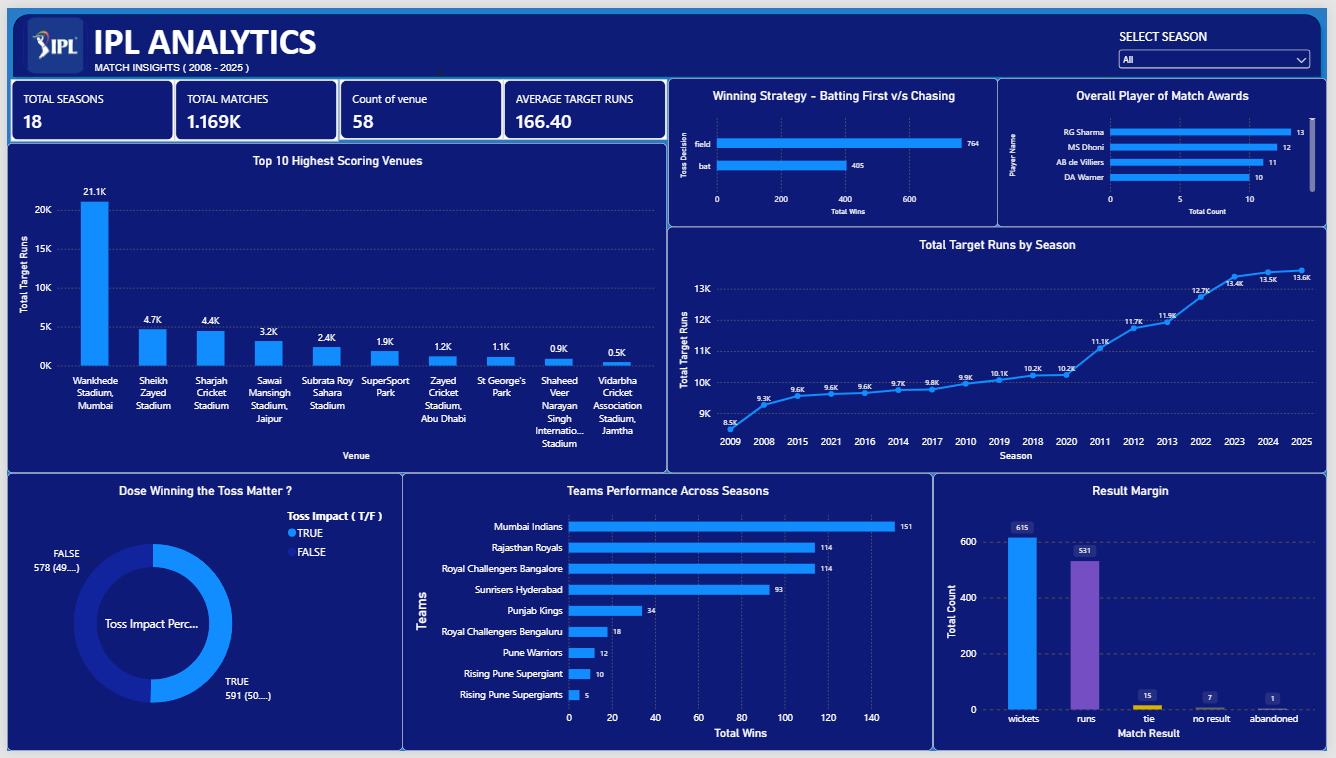

This screenshot's page, from the dashboard's own definition file:
{"tool":"powerbi","page":{"name":"Dashboard","canvas":[1920,1080],"ordinal":0},"visuals":[{"type":"lineChart","title":"Total Target Runs by Season","fields":{"Category":["ipl.Match_Year"],"Y":["Sum(ipl.target_runs)"]},"box":[960,318,960,358],"z":0},{"type":"shape","box":[0,0,1920,109],"z":1000},{"type":"slicer","title":"   SELECT SEASON","fields":{"Values":["ipl.Match_Year"]},"box":[1596.1,45.2,304,52.5],"z":2000},{"type":"textbox","title":"IPL ANALYTICS","box":[125.7,14.3,1008,95],"z":3000},{"type":"clusteredColumnChart","title":"Top 10 Highest Scoring Venues","fields":{"Category":["ipl.venue"],"Y":["Sum(ipl.target_runs)"]},"box":[0,196,960,480],"z":4000},{"type":"donutChart","title":"Dose Winning the Toss Matter ?","fields":{"Category":["ipl.Toss_Impact"],"Y":["CountNonNull(ipl.match_number)"]},"box":[0,676,576,404],"z":5000},{"type":"barChart","title":"Teams Performance Across Seasons","fields":{"Category":["ipl.winner"],"Y":["CountNonNull(ipl.match_number)"]},"box":[574,676,772,404],"z":6000},{"type":"clusteredColumnChart","title":"Result Margin","fields":{"Category":["ipl.result"],"Y":["CountNonNull(ipl.result)"]},"box":[1348,676,572,404],"z":7000},{"type":"image","box":[23.5,12.9,93.5,82.9],"z":8000},{"type":"textbox","box":[100,100,300,300],"z":9000},{"type":"textbox","title":"MATCH INSIGHTS ( 2008 - 2025 )","box":[128,77.8,331.4,30],"z":10000},{"type":"textbox","box":[100,100,300,300],"z":10001},{"type":"textbox","title":"SELECT SEASON","box":[1617.8,29,266,25.3],"z":10002},{"type":"cardVisual","fields":{"Data":["Avg(ipl.target_runs)"]},"box":[722,104,238,88],"z":10006},{"type":"cardVisual","fields":{"Data":["CountNonNull(ipl.match_number)"]},"box":[244,104,238,90],"z":10007},{"type":"cardVisual","fields":{"Data":["Count(ipl.season)"]},"box":[5,104,238,90],"z":10008},{"type":"cardVisual","fields":{"Data":["Count(ipl.venue)"]},"box":[483,104,238,88],"z":10009},{"type":"barChart","title":"Winning Strategy - Batting First v/s Chasing","fields":{"Category":["ipl.toss_decision"],"Y":["CountNonNull(ipl.winner)"]},"box":[961,101,480,217],"z":10010},{"type":"barChart","title":"Overall Player of Match Awards","fields":{"Category":["ipl.player_of_match"],"Y":["Count(ipl.season)"]},"box":[1440,102.2,480,217],"z":10011}]}

Visuals, with their boxes in screenshot pixels (x1, y1, x2, y2), scaled from the page's 1920x1080 canvas onto the 1336x758 screenshot:
"Total Target Runs by Season" lineChart: <bbox>668, 223, 1335, 474</bbox>
shape: <bbox>0, 0, 1335, 77</bbox>
"   SELECT SEASON" slicer: <bbox>1111, 32, 1322, 69</bbox>
"IPL ANALYTICS" textbox: <bbox>87, 10, 789, 77</bbox>
"Top 10 Highest Scoring Venues" clusteredColumnChart: <bbox>0, 138, 668, 474</bbox>
"Dose Winning the Toss Matter ?" donutChart: <bbox>0, 474, 401, 757</bbox>
"Teams Performance Across Seasons" barChart: <bbox>399, 474, 937, 757</bbox>
"Result Margin" clusteredColumnChart: <bbox>938, 474, 1335, 757</bbox>
image: <bbox>16, 9, 81, 67</bbox>
textbox: <bbox>70, 70, 278, 281</bbox>
"MATCH INSIGHTS ( 2008 - 2025 )" textbox: <bbox>89, 55, 320, 76</bbox>
textbox: <bbox>70, 70, 278, 281</bbox>
"SELECT SEASON" textbox: <bbox>1126, 20, 1311, 38</bbox>
cardVisual - Avg(ipl.target_runs): <bbox>502, 73, 668, 135</bbox>
cardVisual - CountNonNull(ipl.match_number): <bbox>170, 73, 335, 136</bbox>
cardVisual - Count(ipl.season): <bbox>3, 73, 169, 136</bbox>
cardVisual - Count(ipl.venue): <bbox>336, 73, 502, 135</bbox>
"Winning Strategy - Batting First v/s Chasing" barChart: <bbox>669, 71, 1003, 223</bbox>
"Overall Player of Match Awards" barChart: <bbox>1002, 72, 1335, 224</bbox>
